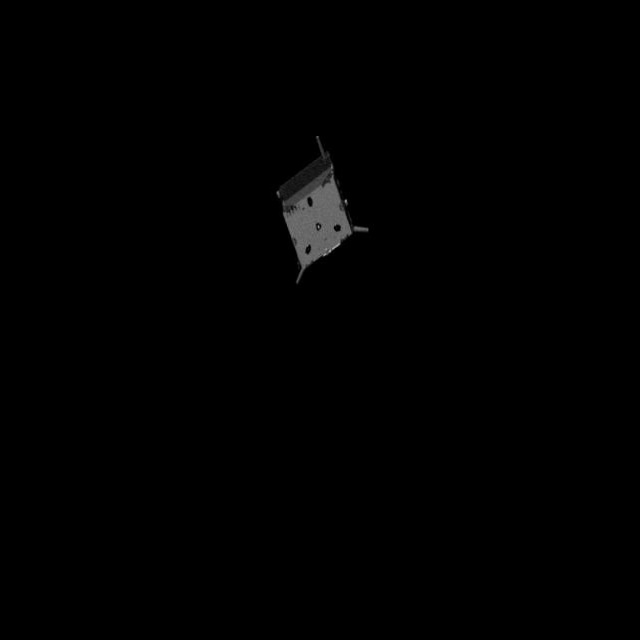medium_debris: (270, 129, 386, 291)
